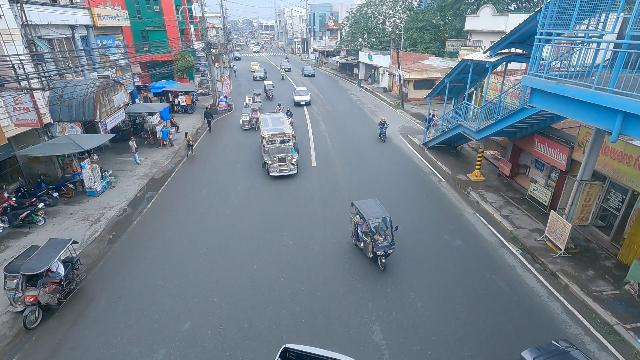car: (292, 86, 312, 107), (253, 68, 268, 81), (301, 65, 315, 78), (280, 60, 292, 72), (250, 61, 261, 72), (233, 52, 241, 61), (252, 46, 260, 53)
jeepney: (258, 113, 300, 179), (236, 44, 243, 51)
motorcycle: (378, 117, 389, 141), (285, 108, 293, 128), (274, 102, 285, 115), (280, 68, 286, 80), (284, 56, 289, 62), (270, 46, 273, 52)
